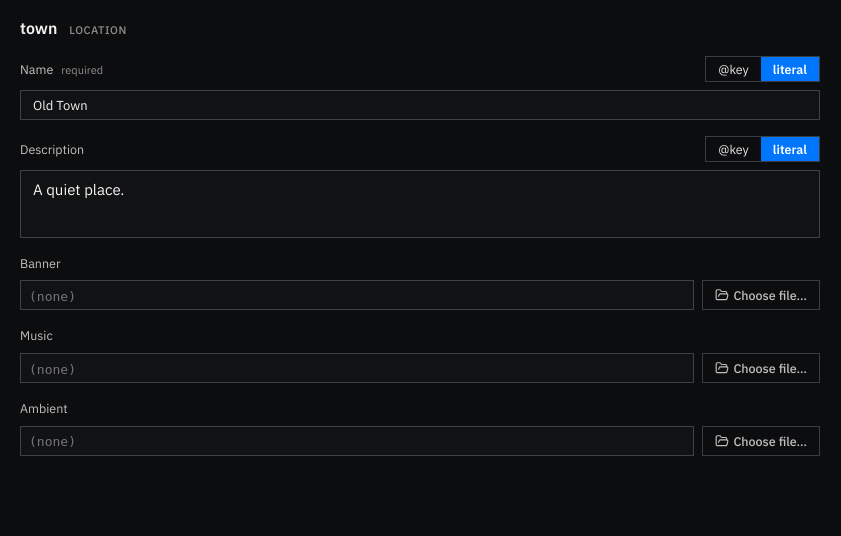
Test case: EntityForm author journeys › keeps the author in control when an autosave sees an external conflict
This screenshot has width=841, height=536.
Replace the text in the field showing "Old Town" with "My Town" at point(420, 105), box 20,90 -> 820,120
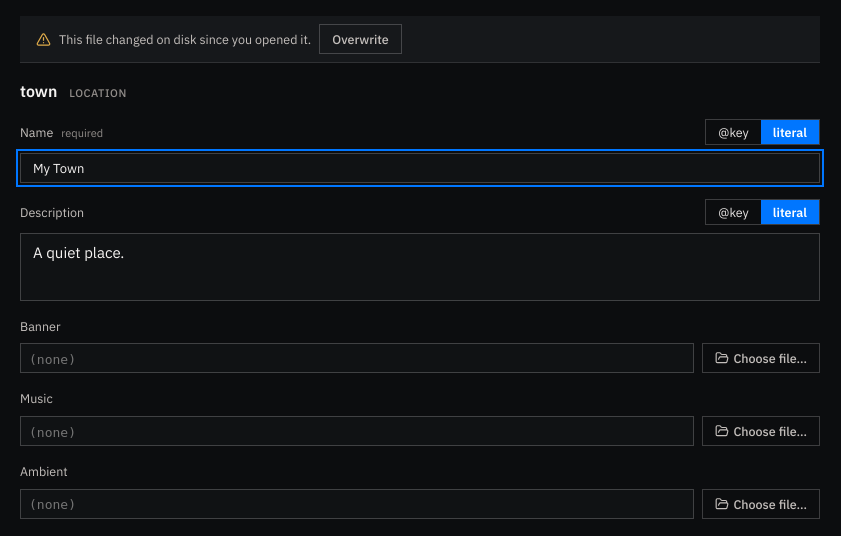
Expected: the text "This file changed on disk since you opened it." is shown, 59,30 -> 311,48
